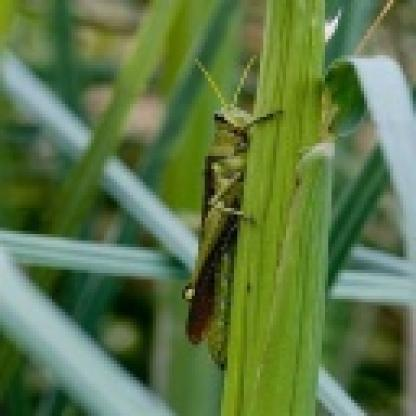grasshopper: (173, 43, 290, 387)
